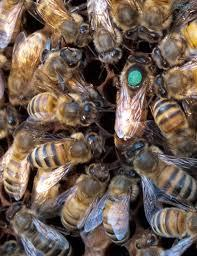Queen-Bee: (113, 43, 159, 159)
worker-bee: (125, 136, 197, 202), (57, 166, 116, 233), (6, 203, 70, 256), (17, 91, 104, 128), (23, 133, 107, 169), (37, 0, 88, 48), (90, 0, 122, 66)
